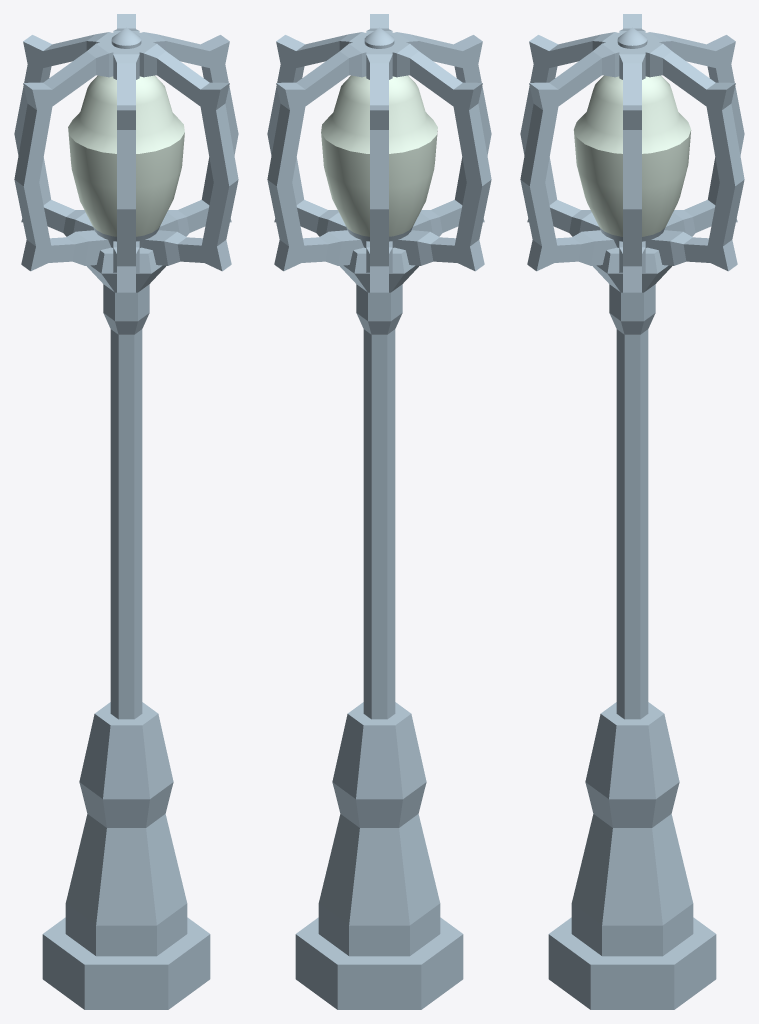
The model's file is streetlight_17_d3.fbx.
The picture shows the model from 3 angles, left to right: view 1: azimuth 30°, elevation 25°; view 2: azimuth 150°, elevation 25°; view 3: azimuth 270°, elevation 25°; orthographic projection.
Parts seen in each view (by area): view 1: streetlight_17_d3, pSphere24, polySurface31, polySurface35, polySurface36, polySurface34, polySurface32; view 2: streetlight_17_d3, pSphere24, polySurface33, polySurface35, polySurface34, polySurface36, polySurface32; view 3: streetlight_17_d3, pSphere24, polySurface31, polySurface33, polySurface32, polySurface34, polySurface36.
Part boxes in pixels (<box>): streetlight_17_d3: <box>42,247,210,1009</box>; pSphere24: <box>68,27,184,247</box>; polySurface31: <box>127,40,238,271</box>; polySurface35: <box>14,40,125,271</box>; polySurface36: <box>113,46,139,292</box>; polySurface34: <box>14,32,116,236</box>; polySurface32: <box>136,32,238,236</box>; streetlight_17_d3: <box>295,247,463,1009</box>; pSphere24: <box>321,27,437,247</box>; polySurface33: <box>267,40,378,271</box>; polySurface35: <box>381,40,491,271</box>; polySurface34: <box>366,46,392,292</box>; polySurface36: <box>390,32,491,236</box>; polySurface32: <box>267,32,367,236</box>; streetlight_17_d3: <box>548,247,716,1009</box>; pSphere24: <box>573,27,691,247</box>; polySurface31: <box>520,40,631,271</box>; polySurface33: <box>635,40,744,271</box>; polySurface32: <box>619,46,645,292</box>; polySurface34: <box>643,32,744,236</box>; polySurface36: <box>520,32,621,236</box>.
Size of the model in its own units: 2.54 by 10.75 by 2.29.
